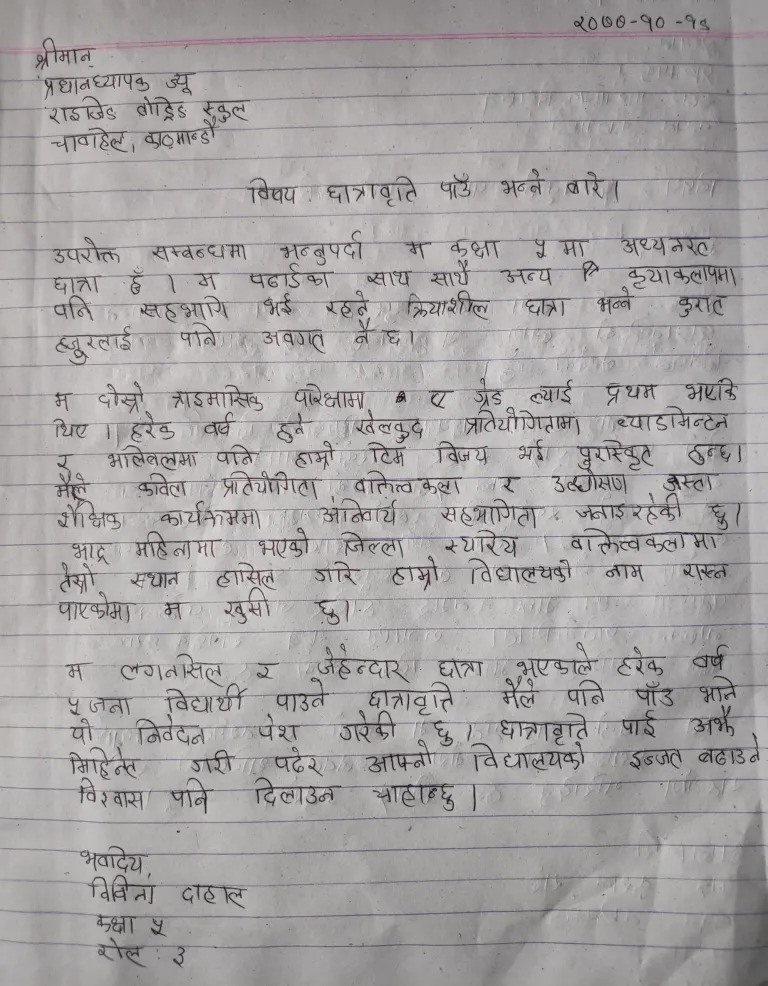text: (567, 523, 727, 554), (571, 5, 712, 39), (115, 648, 229, 687), (312, 641, 415, 682), (466, 741, 587, 775), (461, 407, 584, 439), (462, 555, 580, 587), (573, 492, 690, 524), (220, 467, 323, 503), (628, 258, 740, 290), (321, 174, 422, 209), (276, 229, 373, 265), (436, 496, 544, 528), (352, 469, 467, 499), (56, 324, 137, 366), (613, 406, 734, 434), (499, 710, 593, 746), (367, 778, 462, 813), (154, 501, 264, 531), (248, 776, 345, 810), (368, 681, 460, 716), (514, 641, 603, 677), (166, 383, 268, 414), (154, 681, 247, 715), (132, 531, 221, 565), (616, 231, 716, 261), (576, 435, 659, 471), (101, 444, 204, 473), (29, 31, 101, 72), (404, 289, 495, 321), (137, 294, 234, 324), (39, 69, 149, 95), (55, 592, 137, 626), (147, 239, 253, 264), (361, 741, 436, 776), (64, 747, 142, 780), (387, 554, 448, 596), (247, 261, 332, 291), (320, 496, 402, 527), (291, 379, 368, 412), (352, 411, 429, 444), (130, 716, 214, 746), (75, 776, 149, 810), (49, 125, 131, 155), (337, 526, 407, 561), (77, 843, 149, 877), (49, 235, 125, 267), (143, 118, 221, 149), (87, 874, 160, 907), (550, 467, 632, 496), (179, 880, 251, 913), (444, 527, 525, 556), (55, 500, 125, 533), (698, 733, 764, 768), (242, 171, 303, 208), (216, 588, 275, 626), (260, 322, 330, 354), (47, 95, 120, 125), (255, 525, 316, 559), (338, 709, 399, 743), (274, 678, 330, 715), (93, 935, 149, 972), (614, 644, 672, 679), (682, 373, 745, 405), (626, 744, 687, 776), (95, 378, 149, 414), (199, 92, 259, 124), (671, 289, 731, 321), (496, 167, 550, 202), (169, 776, 215, 816), (434, 437, 491, 469), (601, 377, 660, 407), (135, 468, 190, 500), (273, 746, 328, 778), (214, 562, 280, 587), (690, 705, 740, 738), (309, 558, 362, 589), (682, 436, 734, 467), (433, 170, 479, 205), (127, 415, 178, 446), (434, 653, 490, 681), (65, 535, 116, 565), (134, 96, 190, 123), (498, 675, 540, 711), (292, 438, 340, 469), (255, 713, 303, 744), (563, 169, 608, 202), (688, 641, 733, 674), (660, 467, 719, 492), (600, 558, 654, 585), (365, 439, 412, 470), (127, 565, 183, 591), (529, 378, 579, 407), (177, 320, 222, 352), (629, 681, 680, 709), (323, 289, 370, 319), (60, 560, 99, 596), (678, 557, 732, 583), (51, 469, 91, 504), (51, 294, 98, 323), (499, 264, 558, 287), (521, 294, 575, 319), (212, 441, 262, 468), (363, 263, 414, 289), (187, 749, 238, 775), (449, 235, 504, 259), (430, 259, 474, 289), (618, 709, 660, 740), (86, 692, 136, 718), (49, 272, 105, 295), (465, 377, 505, 409), (698, 673, 738, 705), (566, 679, 608, 709), (275, 409, 309, 445), (45, 415, 92, 441), (96, 910, 140, 937), (308, 596, 345, 628), (258, 291, 298, 320), (203, 409, 238, 441), (512, 436, 549, 465), (165, 67, 199, 98), (57, 657, 94, 685), (425, 718, 458, 749), (595, 293, 636, 317), (400, 233, 435, 261), (557, 233, 591, 260), (47, 388, 80, 415), (349, 319, 379, 348), (703, 502, 732, 531), (124, 264, 148, 298), (253, 656, 282, 683), (168, 941, 193, 972), (190, 268, 223, 291), (527, 233, 553, 262), (68, 721, 98, 746), (496, 472, 528, 495), (160, 597, 187, 624), (61, 692, 84, 720), (145, 912, 168, 939), (53, 449, 79, 472), (384, 325, 407, 348)
